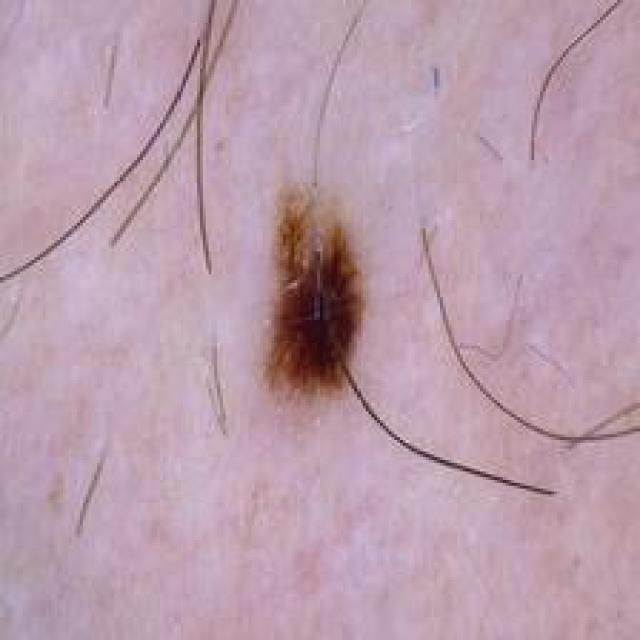Cancer: (259, 183, 374, 424)
